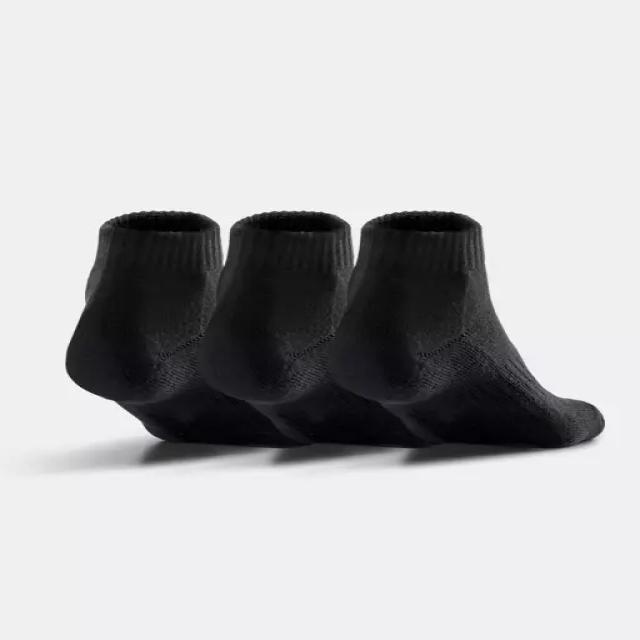sock: (325, 209, 605, 448), (64, 208, 306, 447)
